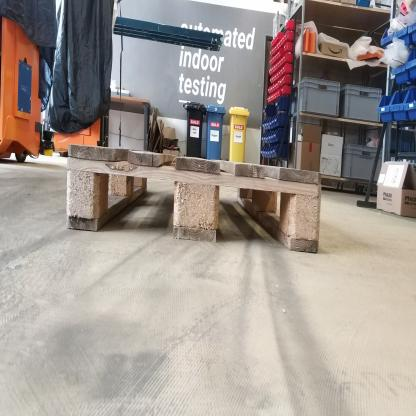BoxFace: (61, 143, 325, 258)
